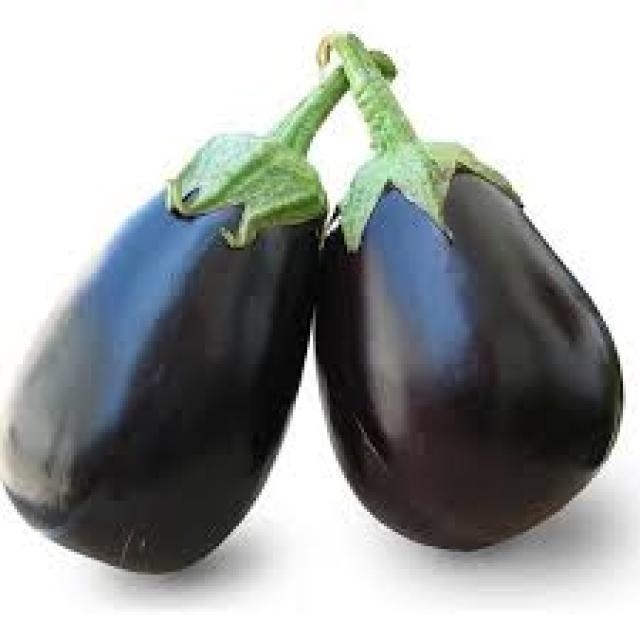eggplant: (6, 136, 327, 569), (310, 131, 617, 549)
